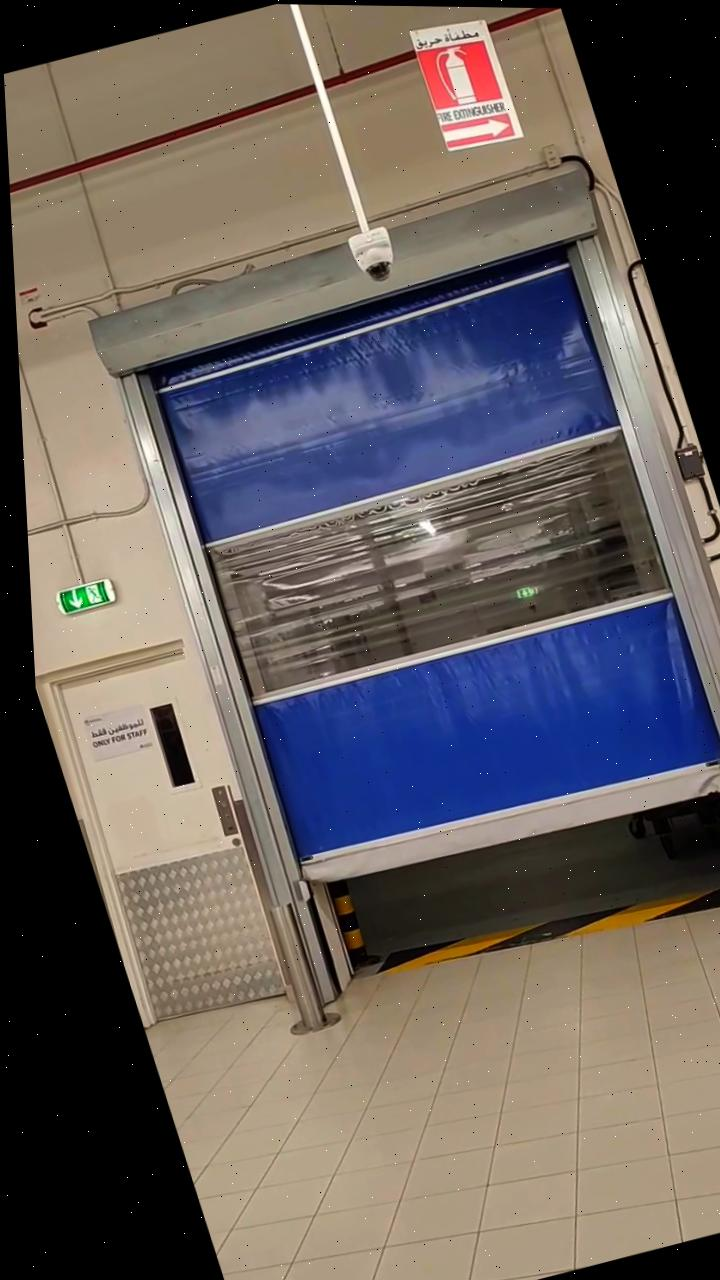Strip: (354, 858, 720, 1001)
